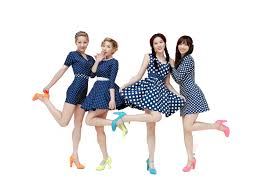person: (166, 29, 205, 96), (137, 34, 173, 95), (64, 27, 97, 83), (92, 30, 120, 93)
